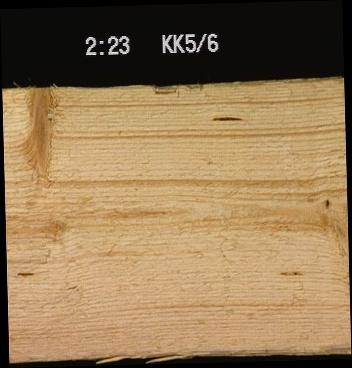small_knot: (318, 191, 338, 214)
